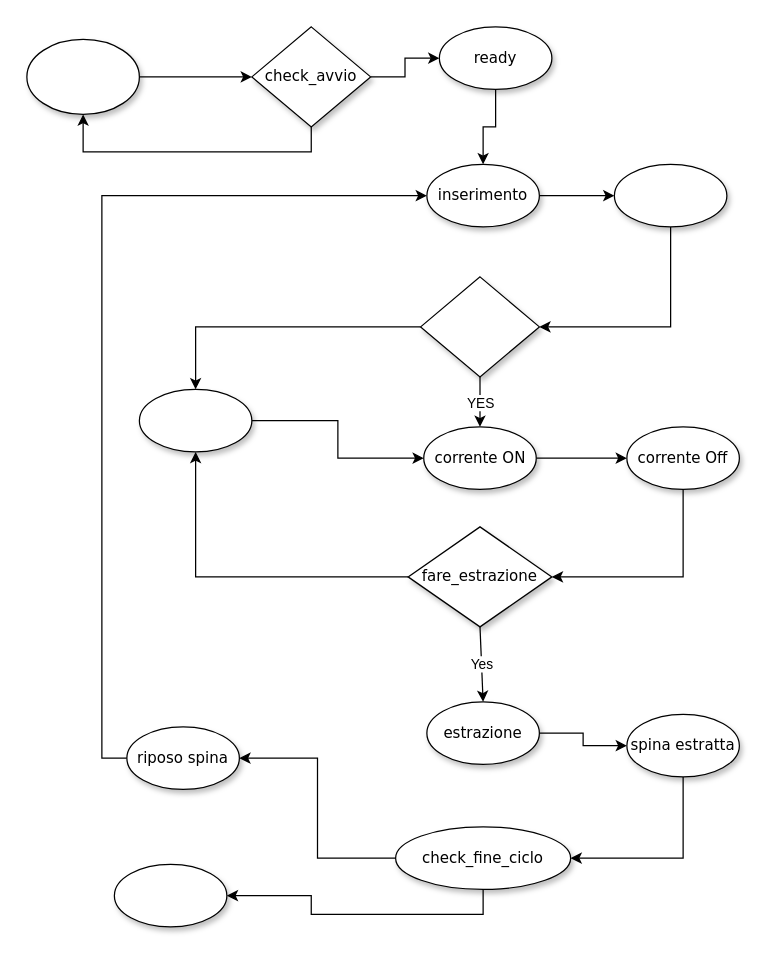
The diagram is 769 pixels wide and 958 high, and some of its shapes have lost their labels. Here are the shapes that lost their labels. From the top down, the centre of each, then its label:
At point (84, 78): "Start_test".
At point (671, 197): "spina inserita".
At point (480, 328): "primo_avvio".
At point (196, 422): "loop_ciclo".
At point (171, 897): "fine_ciclo".
